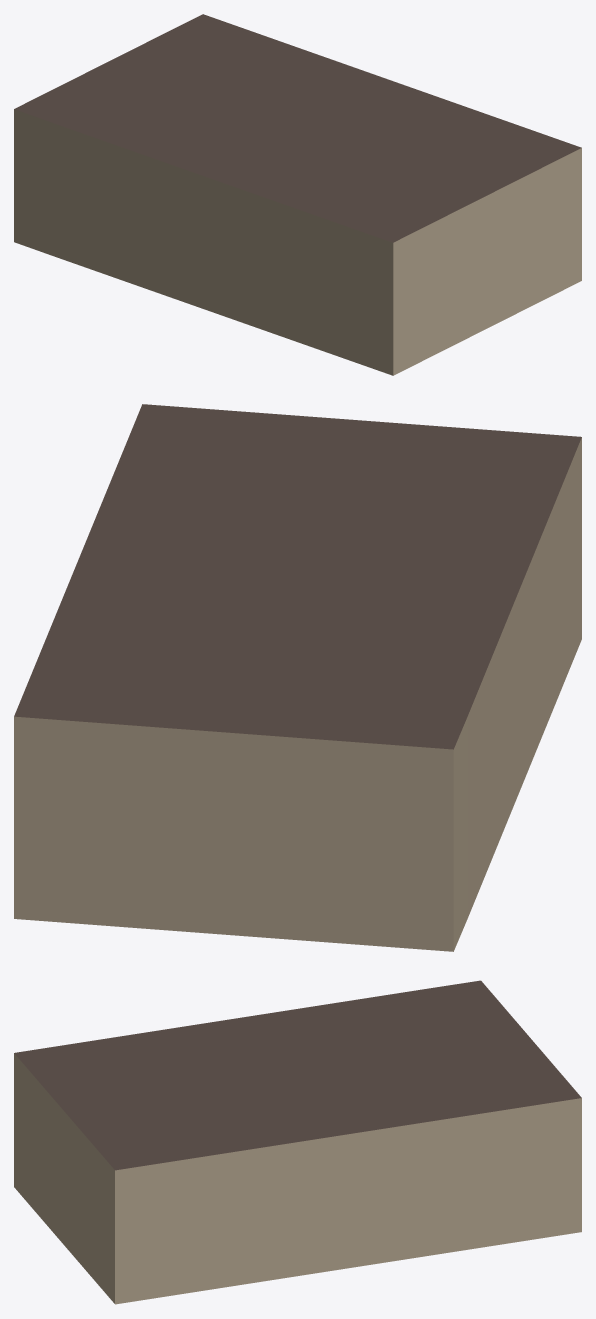
3 views of the same model, one above another, from view 1: azimuth 30°, elevation 25°; view 2: azimuth 150°, elevation 25°; view 3: azimuth 270°, elevation 25° (orthographic). The views are drawn at different scales.
Visible parts, largest first — view 1: HP-w438965277; view 2: HP-w438965277; view 3: HP-w438965277.
Part boxes in pixels (x1,y1,x2,y2): HP-w438965277: [14, 14, 581, 375]; HP-w438965277: [14, 404, 581, 951]; HP-w438965277: [14, 980, 581, 1304].
Bounding box in the file's own units: 27.35 × 9 × 34.56.
